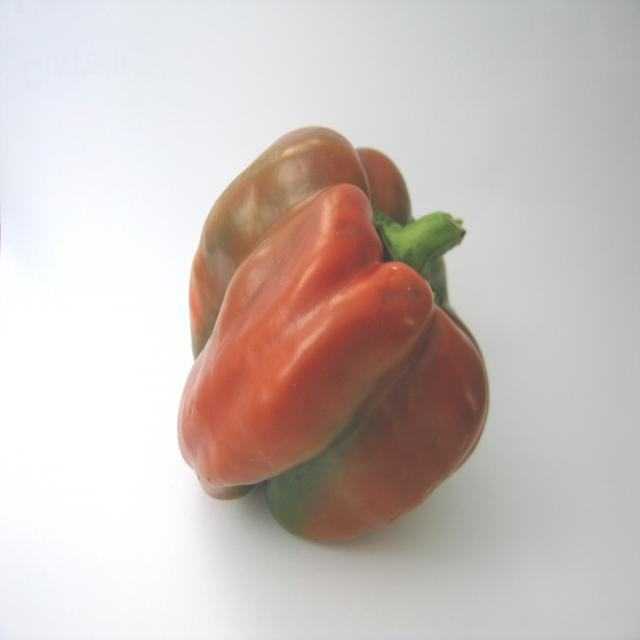Bell pepper: (176, 124, 490, 545)
